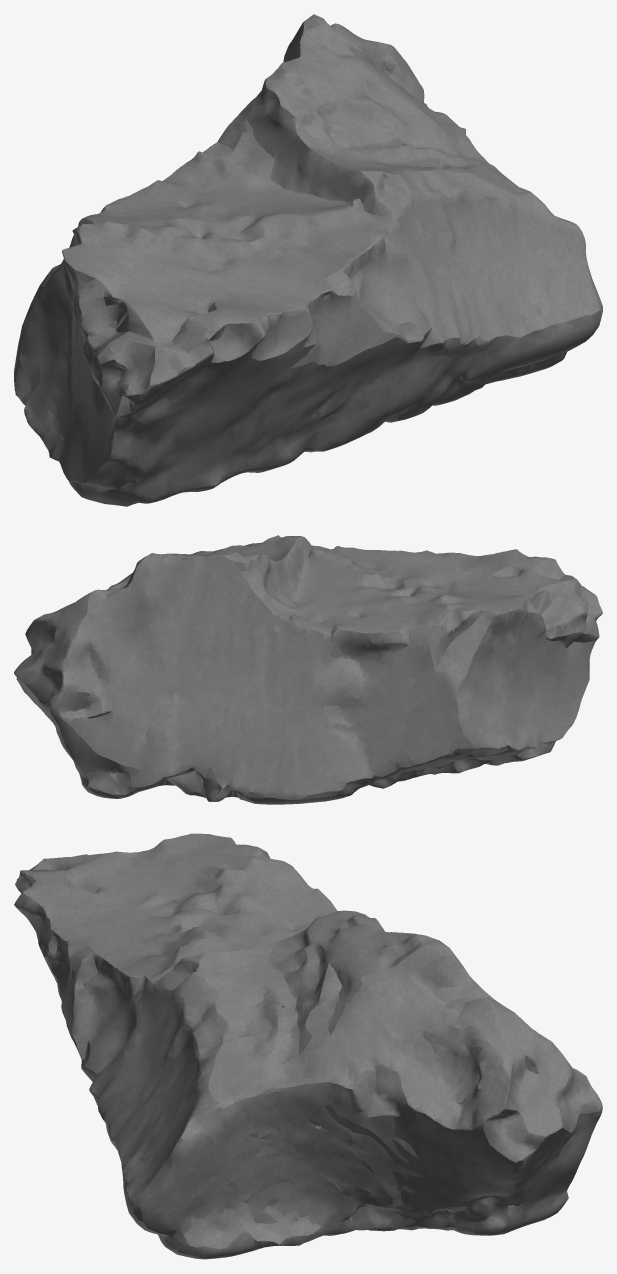
Rendered from tex_mesh.glb.
3 views of the same model, one above another, from view 1: azimuth 30°, elevation 25°; view 2: azimuth 150°, elevation 25°; view 3: azimuth 270°, elevation 25° (orthographic). The views are drawn at different scales.
Visible parts, largest first — view 1: world; view 2: world; view 3: world.
Boxes of the visible parts, box(x1,y1,x2,y2) form: world: box(14, 14, 602, 506); world: box(14, 535, 602, 804); world: box(14, 833, 602, 1259).
Size of the model in its own units: 0.15 by 0.0752 by 0.1492.
Materials: 1 (1 with a texture image).
